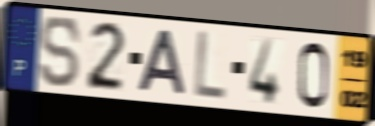0: (297, 40, 330, 111)
2: (87, 19, 128, 94)
4: (246, 36, 284, 108)
A: (136, 27, 188, 97)
L: (191, 28, 228, 104)
S: (39, 14, 83, 90)
